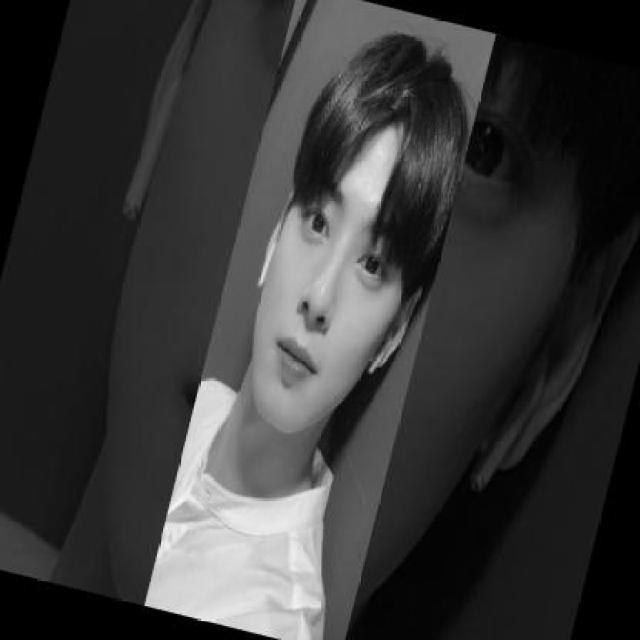earphone: (367, 312, 412, 426), (256, 220, 284, 302)
